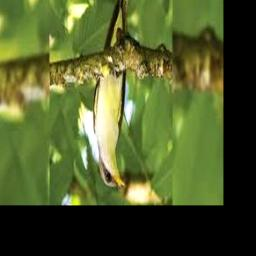Cuckoo: (93, 0, 135, 189)
